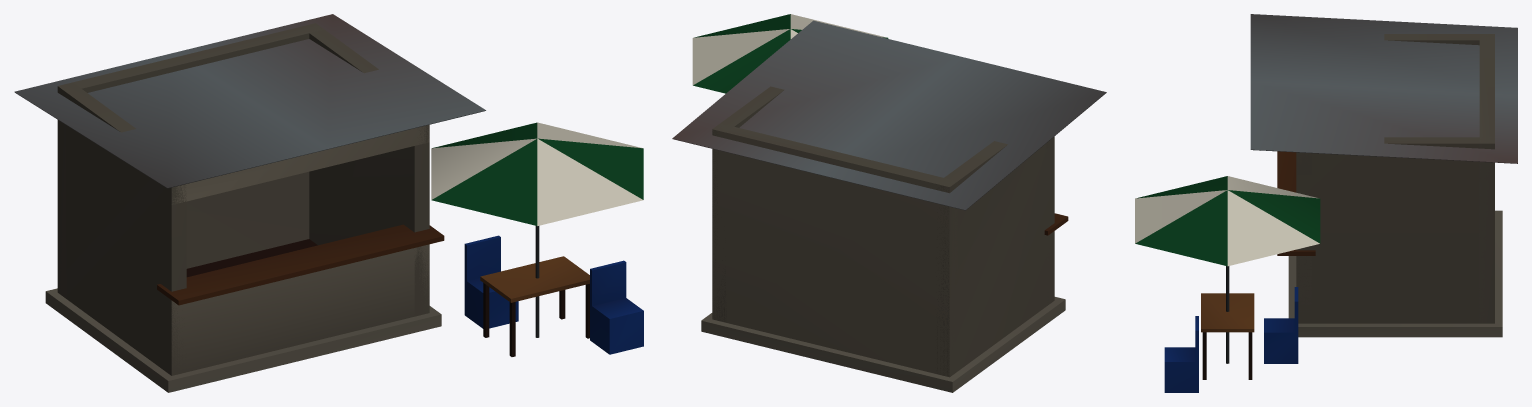
File: fm_office_lod1.glb
3 views of the same model, side by side, from view 1: azimuth 30°, elevation 25°; view 2: azimuth 150°, elevation 25°; view 3: azimuth 270°, elevation 25° (orthographic). The views are drawn at different scales.
Visible parts, largest first — view 1: fm_office_lod1; view 2: fm_office_lod1; view 3: fm_office_lod1.
Boxes of the visible parts, <box> form: fm_office_lod1: <box>14,14,643,392</box>; fm_office_lod1: <box>672,14,1106,392</box>; fm_office_lod1: <box>1135,14,1517,392</box>.
Bounding box in the file's own units: 6.1 × 2.85 × 5.01.
